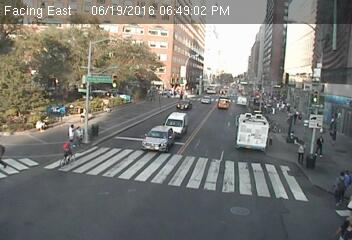neg: (58, 138, 81, 169), (311, 85, 324, 102), (257, 92, 267, 106)
pos: (329, 172, 351, 205), (291, 139, 312, 166), (312, 133, 330, 156), (340, 214, 351, 239), (74, 124, 86, 141), (341, 168, 351, 188), (65, 121, 76, 137)
